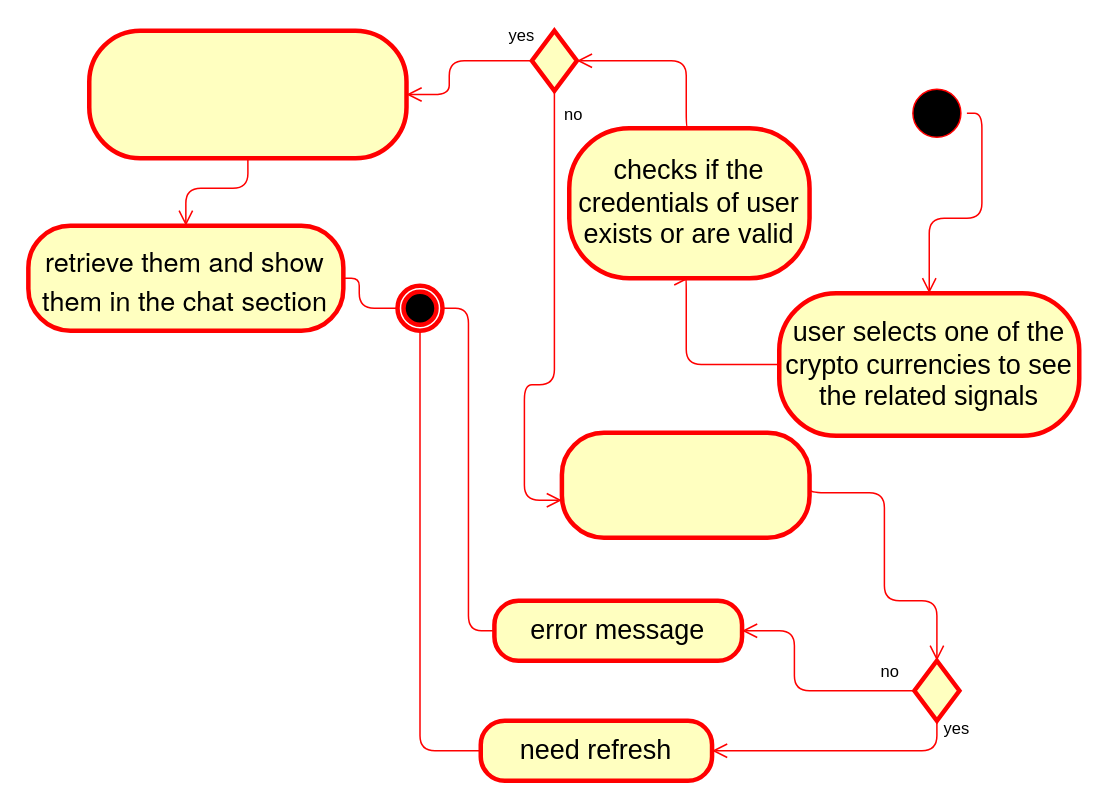
Image size: 1107x809. Some labels were removed from this diagram. Here are the shapes that lost their labels. From the top down, the centre of each, then its label:
At (x=247, y=94): "the system finds only the signals that is written for a specific currency".
At (x=685, y=484): "check if the access token is expired".
